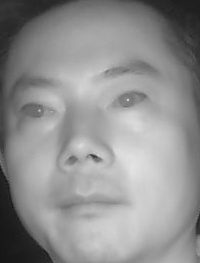eye: (107, 89, 153, 114), (15, 100, 57, 124)
mouth: (57, 185, 127, 225)
